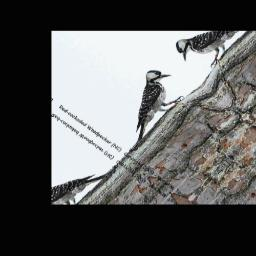Woodpecker: (97, 63, 193, 150)
